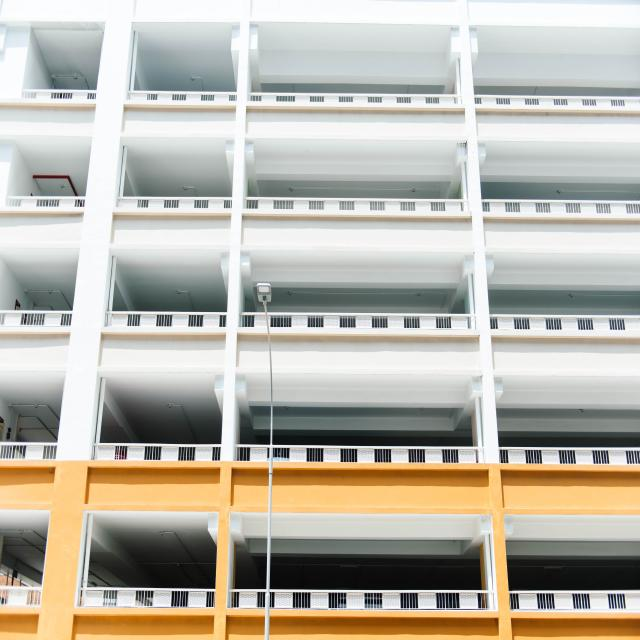Street Light: (255, 282, 274, 640)
